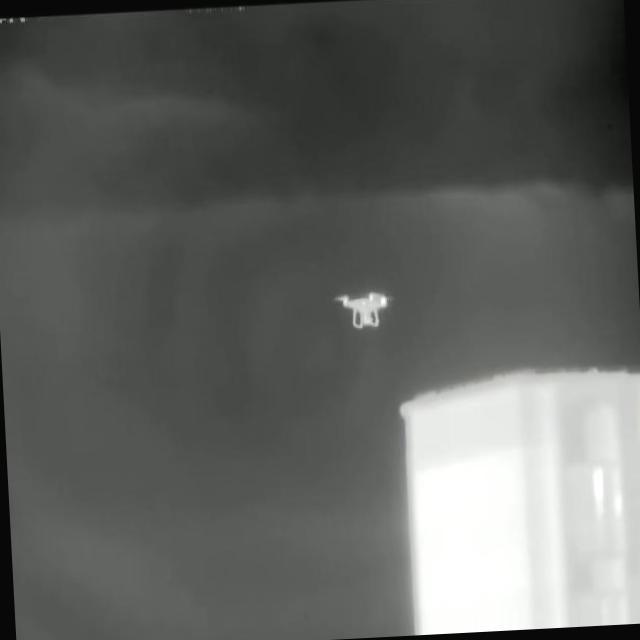DRONE: (329, 287, 394, 331)
